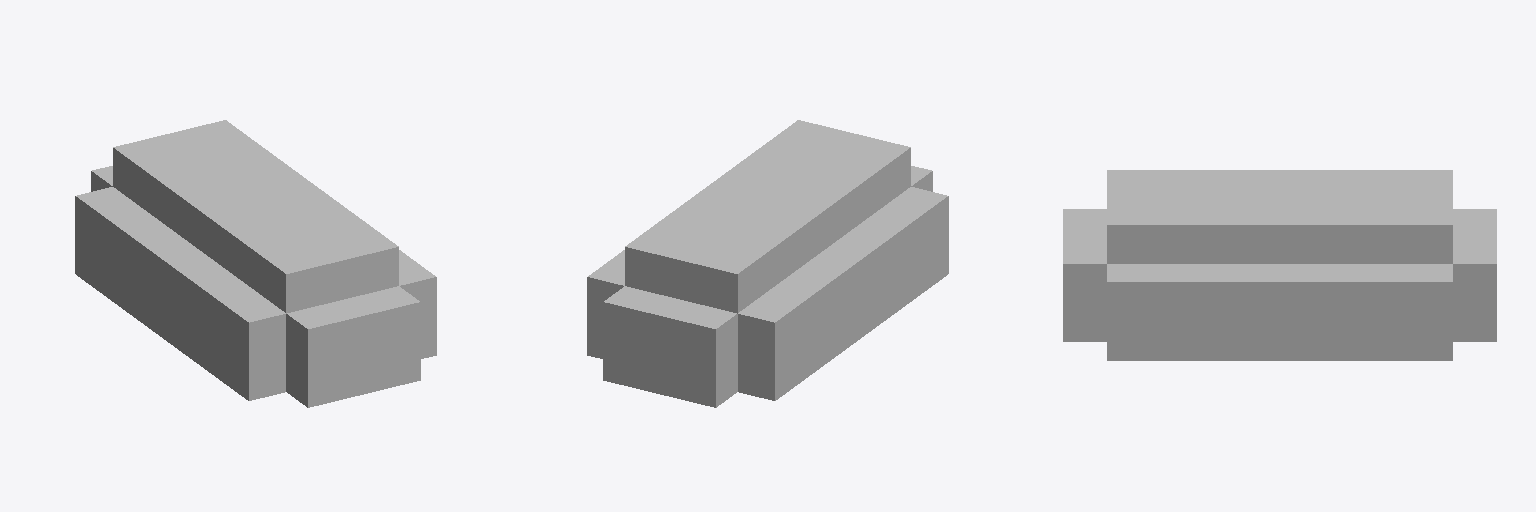
Rendered from leftFoot.obj.
The picture shows the model from 3 angles: view 1: azimuth 30°, elevation 25°; view 2: azimuth 150°, elevation 25°; view 3: azimuth 270°, elevation 25°; orthographic projection.
Parts seen in each view (by area): view 1: leftFoot_Cube.098; view 2: leftFoot_Cube.098; view 3: leftFoot_Cube.098.
Boxes of the visible parts, <box> form: leftFoot_Cube.098: <box>75,120,436,407</box>; leftFoot_Cube.098: <box>587,120,948,407</box>; leftFoot_Cube.098: <box>1063,170,1496,360</box>.
Bounding box in the file's own units: 5 × 3 × 10.